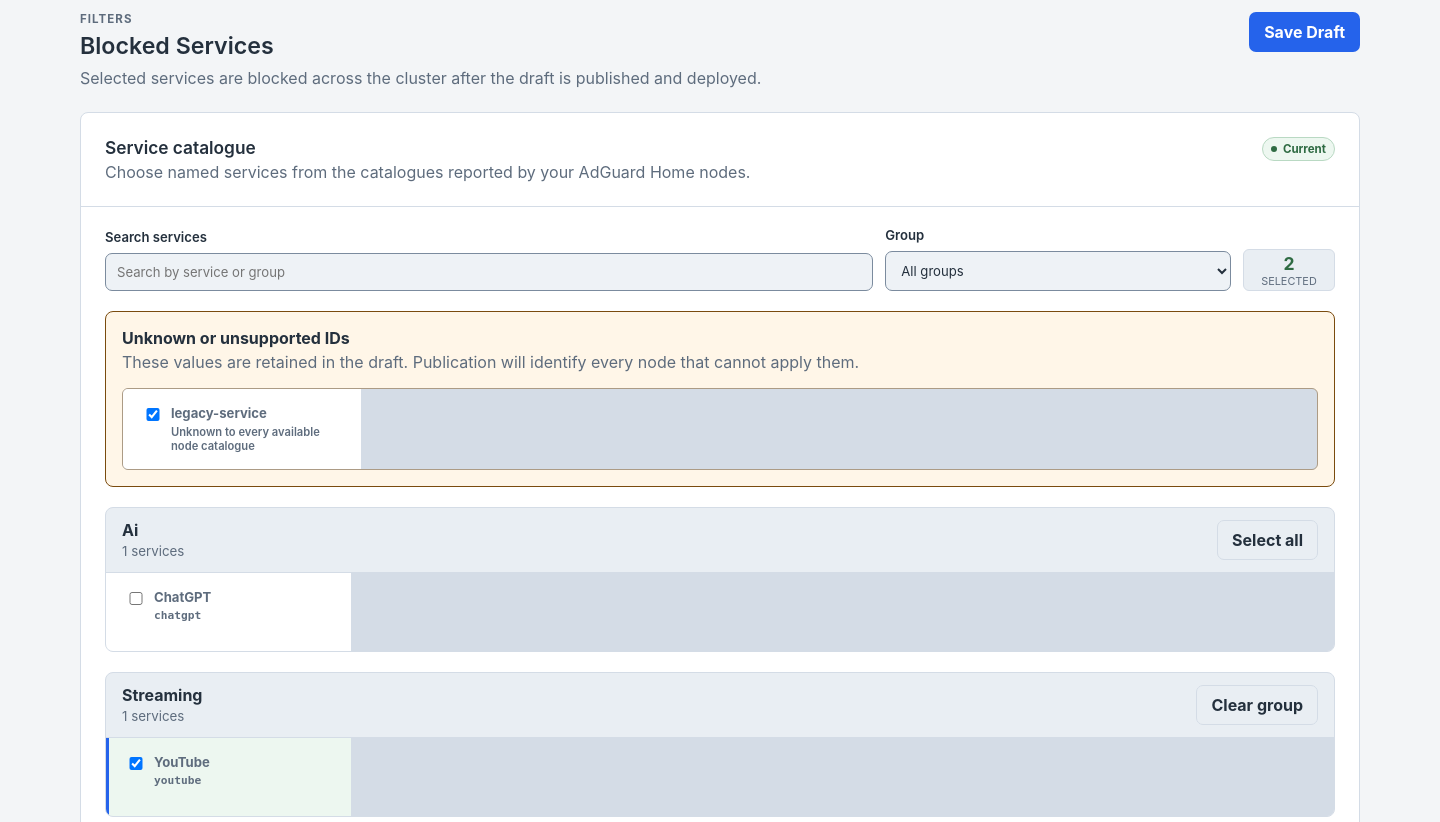
it: blocked services page › migrates raw IDs into selection and Save Draft performs no publication or deployment
Expected: the heading "Blocked Services" is shown, top-left (80, 32), bottom-right (274, 60)
Expected: the checkbox named "Block YouTube" is checked, top-left (126, 757), bottom-right (146, 770)
What coordinates should you click on to do the following:
click the checkbox named "Block ChatGPT"
I would click on:
 (136, 598)
Its box is top-left (126, 592), bottom-right (146, 605).
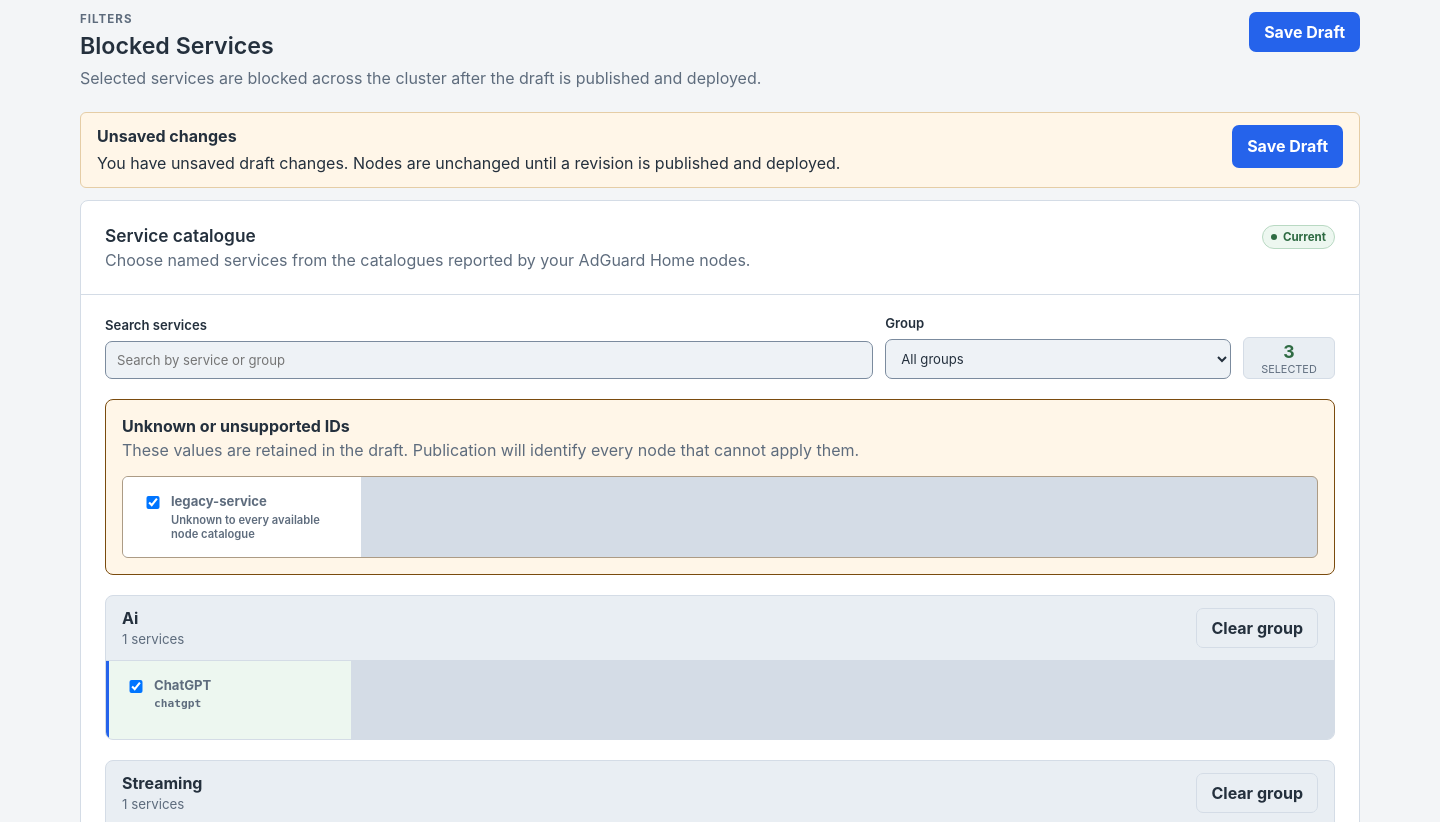
What coordinates should you click on to do the following:
click the button "Save Draft" in the row of "Blocked Services"
I would click on:
 (1305, 32)
Its box is top-left (1249, 12), bottom-right (1360, 52).
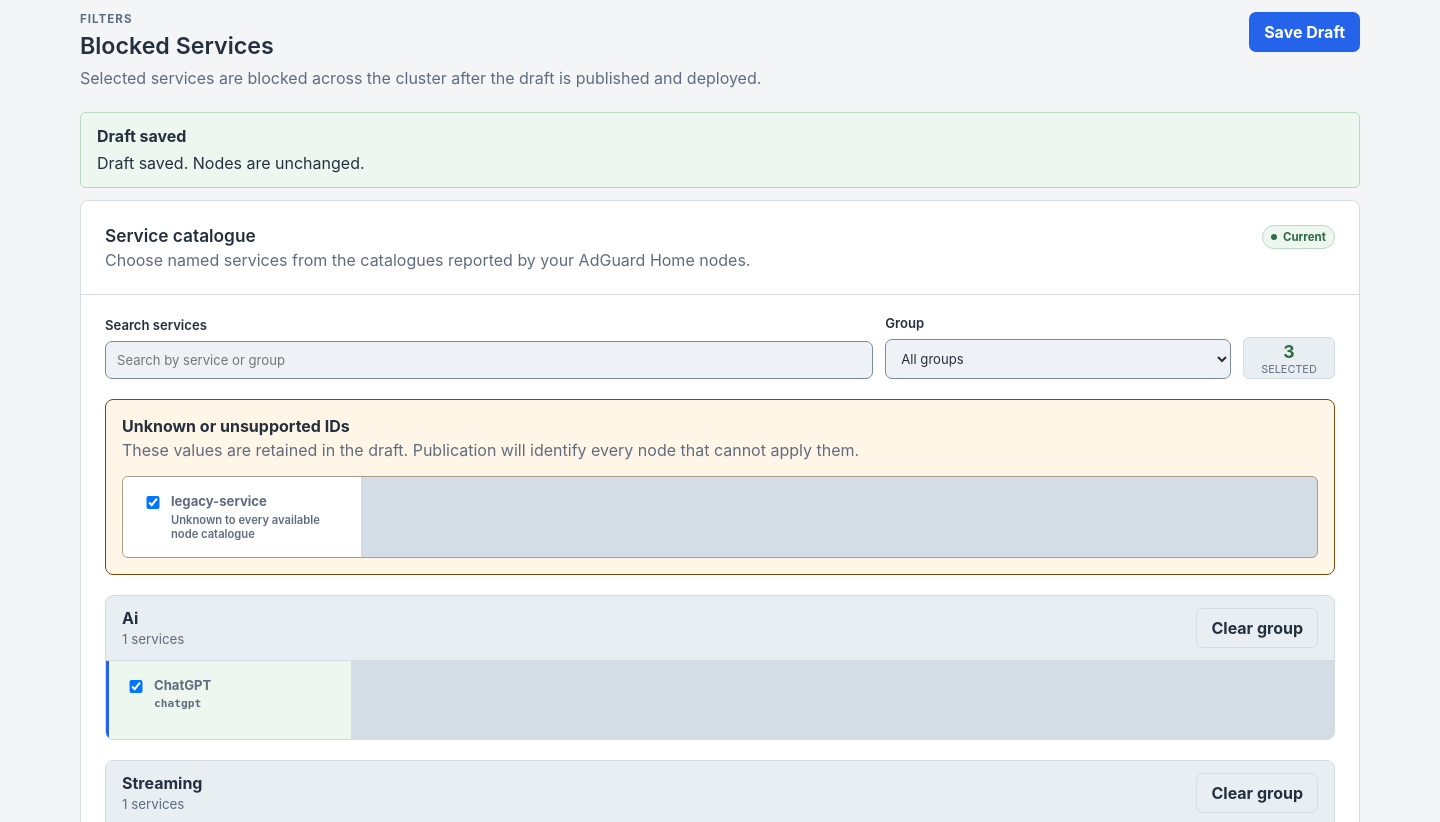
Expected: the text "Draft saved. Nodes are unchanged." is shown, top-left (97, 152), bottom-right (365, 175)
